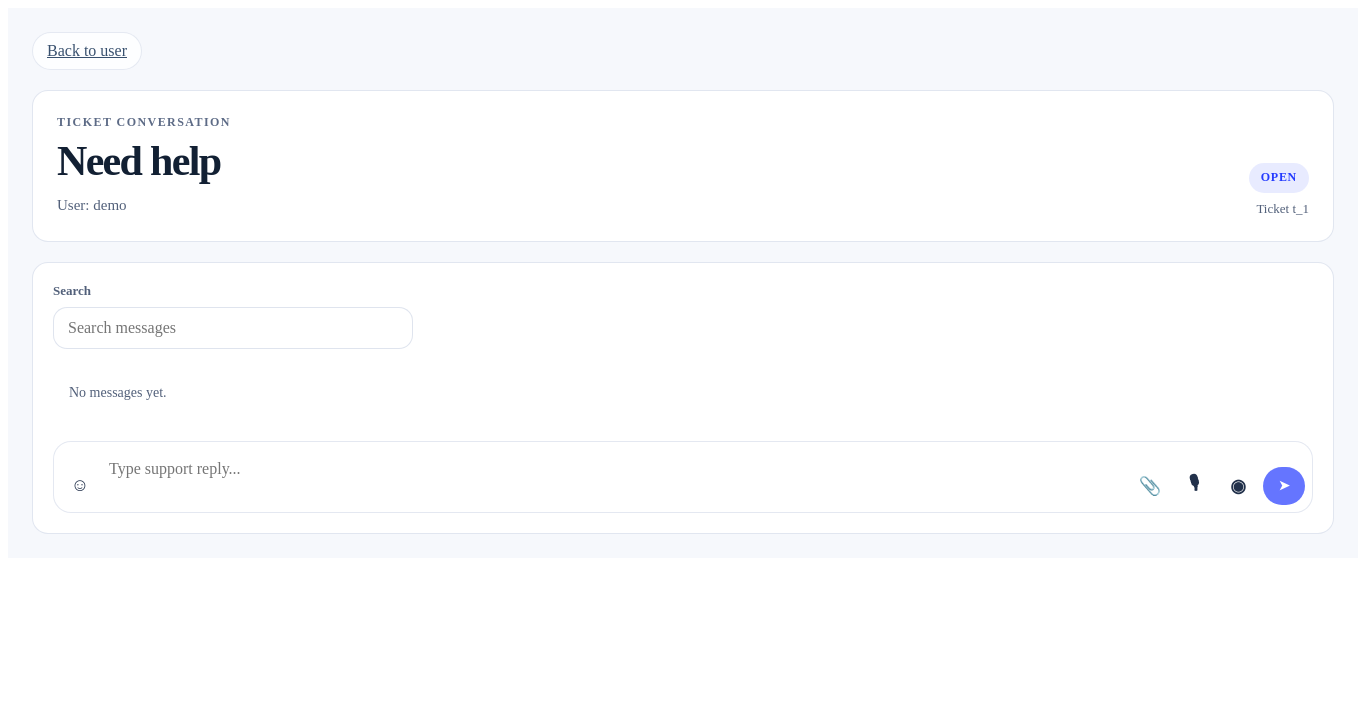
Test case: support-admin ticket chat page › adds the sent support message locally without a slow full refresh
The width and height of the screenshot is (1366, 723).
In the text box with placeholder "Type support reply...": (619, 477) x1=105 y1=449 x2=1133 y2=505, type "Thanks for the update"
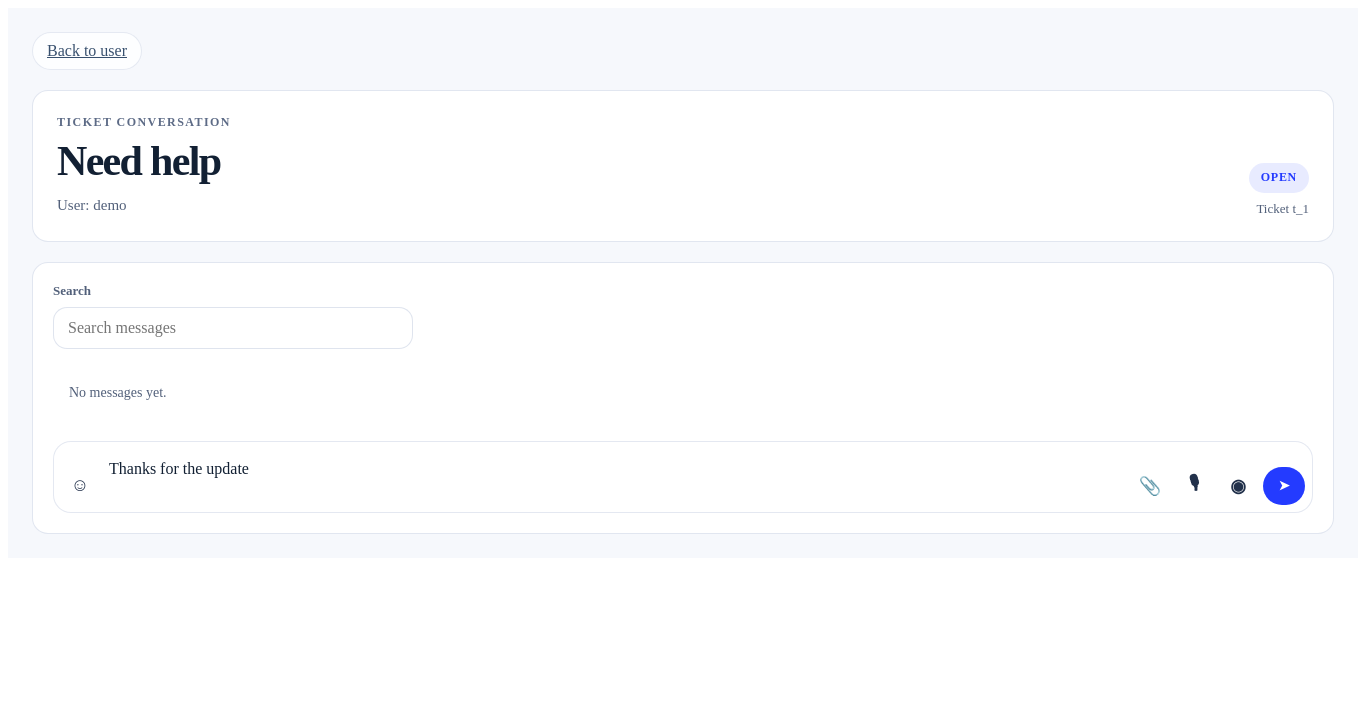
Click the button named "Send": (1284, 486) x1=1263 y1=467 x2=1305 y2=505
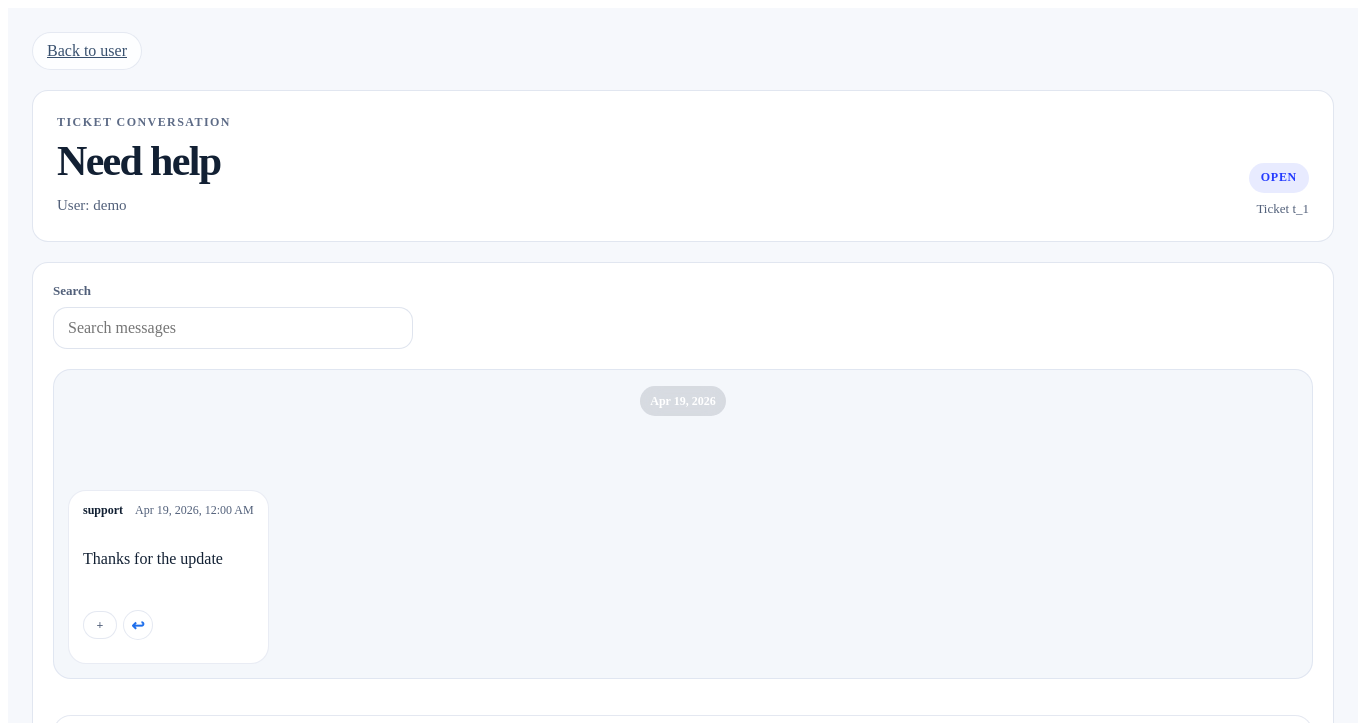
Now the text "Thanks for the update" is shown, box x1=83 y1=550 x2=223 y2=567
